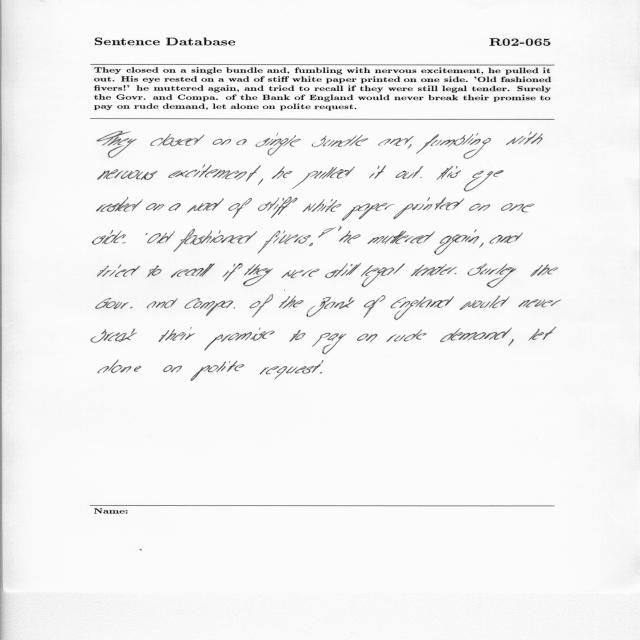word: (416, 133, 491, 159), (173, 229, 257, 252), (204, 328, 275, 351), (168, 165, 261, 182), (394, 197, 464, 219), (390, 296, 454, 320), (292, 167, 355, 189), (260, 360, 324, 380), (257, 231, 311, 254), (468, 264, 517, 288), (434, 229, 479, 255), (97, 131, 137, 158), (191, 361, 245, 381), (255, 133, 301, 156), (361, 264, 405, 288), (440, 328, 512, 342), (307, 297, 355, 317), (342, 203, 394, 221), (185, 298, 235, 316), (368, 231, 436, 244), (464, 170, 504, 192), (258, 197, 297, 218), (460, 295, 510, 310), (312, 333, 347, 354), (97, 197, 143, 212), (91, 328, 137, 343), (312, 135, 369, 147), (98, 169, 158, 180), (243, 264, 273, 286), (151, 134, 205, 146), (171, 264, 215, 278), (98, 360, 141, 373), (411, 264, 457, 276), (250, 295, 274, 318), (159, 327, 195, 342), (387, 329, 427, 342), (187, 199, 224, 213), (98, 265, 141, 277), (309, 228, 336, 247), (92, 230, 126, 245), (364, 295, 386, 318), (325, 264, 361, 278), (303, 199, 341, 212), (506, 132, 543, 145), (228, 198, 252, 218), (96, 298, 132, 309), (281, 269, 320, 279), (518, 299, 561, 308), (489, 233, 523, 244), (396, 166, 424, 179), (529, 327, 557, 340), (378, 136, 414, 146), (223, 264, 243, 281), (437, 166, 461, 180), (147, 231, 175, 243), (531, 265, 558, 277), (147, 298, 178, 308), (279, 296, 304, 308), (501, 203, 534, 212), (339, 231, 361, 244), (272, 166, 293, 179), (369, 165, 386, 179), (289, 329, 306, 342), (147, 265, 162, 277), (357, 334, 377, 343), (163, 365, 182, 373), (469, 204, 490, 211), (146, 203, 164, 211), (213, 139, 231, 145), (169, 203, 181, 211), (236, 139, 247, 145), (508, 339, 514, 346), (258, 179, 263, 185), (407, 144, 412, 149), (479, 243, 484, 248), (338, 227, 342, 231), (122, 242, 126, 244), (145, 233, 148, 235), (320, 372, 322, 374), (454, 273, 457, 274), (420, 177, 422, 178)
